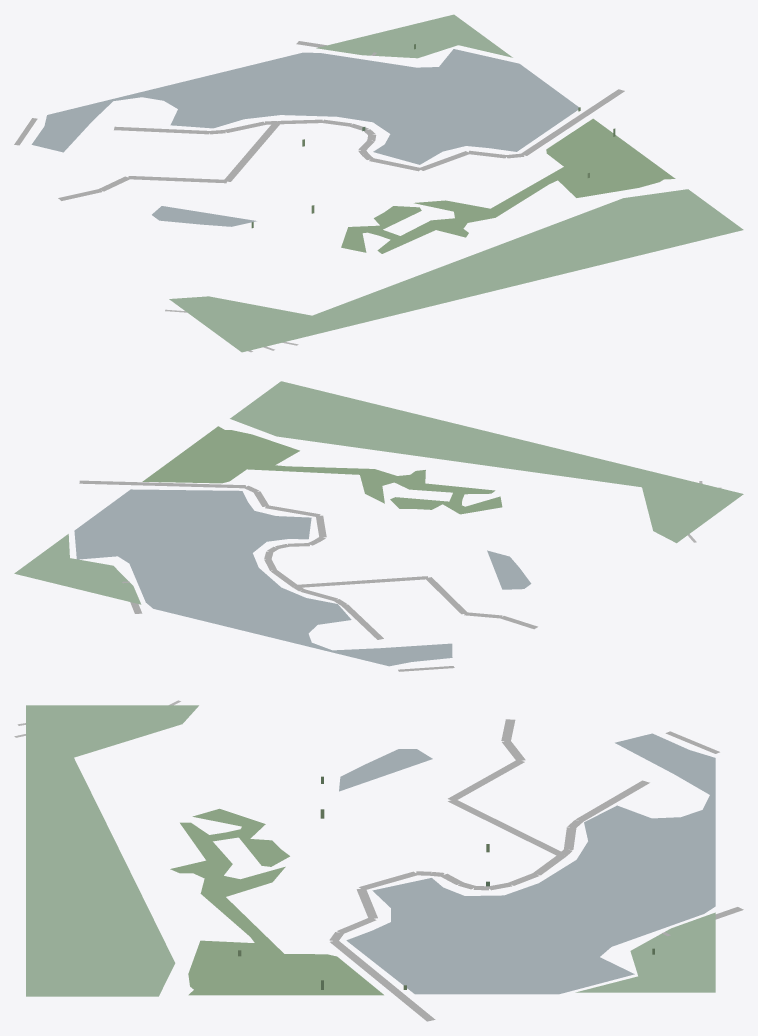
3 renders of one model, top to bottom at view 1: azimuth 30°, elevation 25°; view 2: azimuth 150°, elevation 25°; view 3: azimuth 270°, elevation 25°, orthographic. The views are drawn at different scales.
Size of the model in its own units: 563 by 13.19 by 529.
